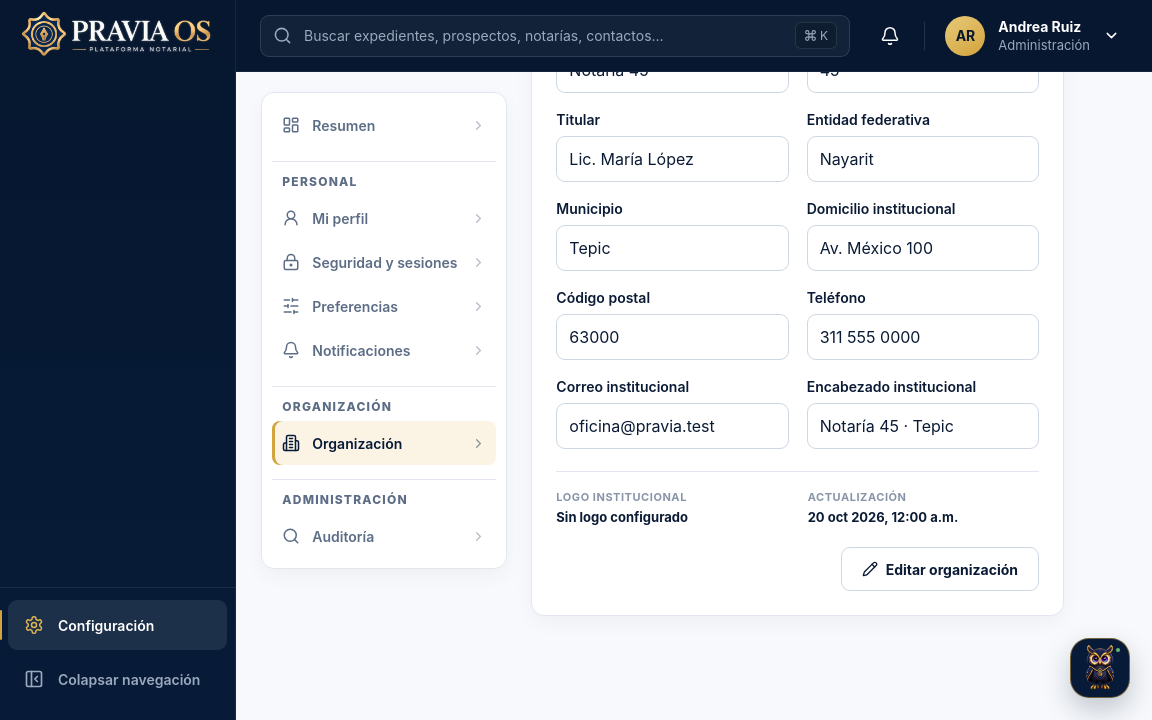
it: Una organización por tenant: retiro del módulo Notarías › mantiene el formulario visible y muestra el error si falla el guardado
The image size is (1152, 720).
(page scrolled)
Step 1. Click the button "Editar organización" → {"x": 940, "y": 569}, box [841,547,1039,591]
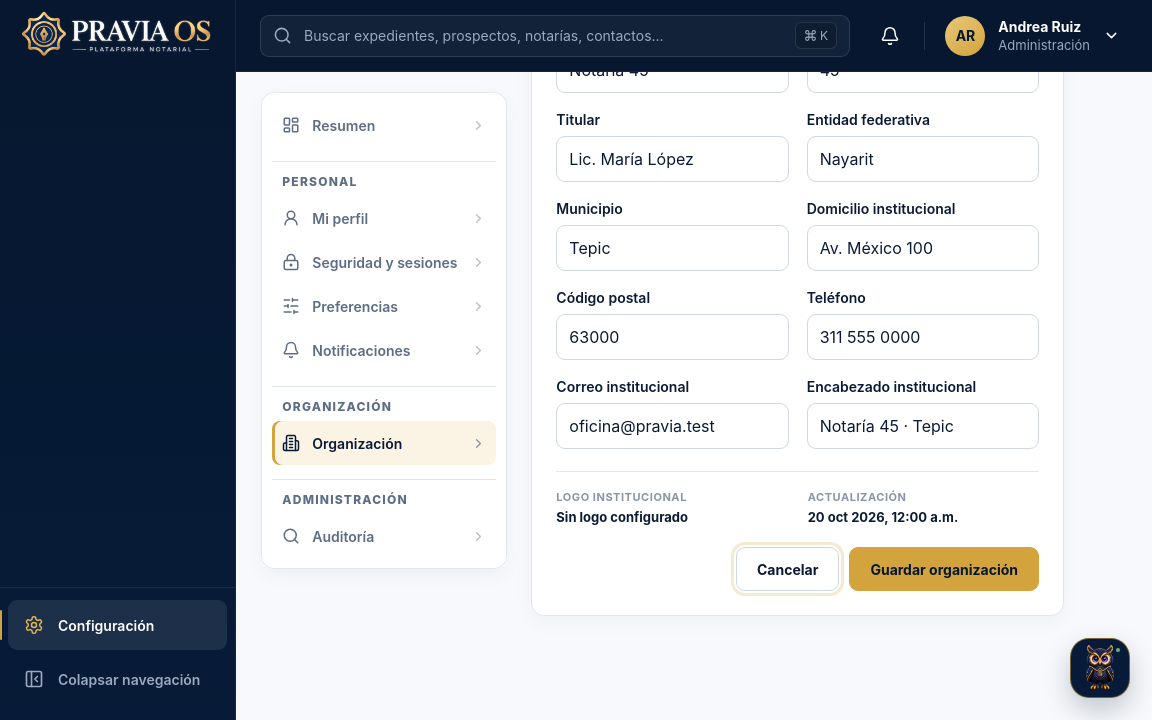
Step 2. Click the button "Guardar organización" → {"x": 944, "y": 569}, box [849,547,1039,591]
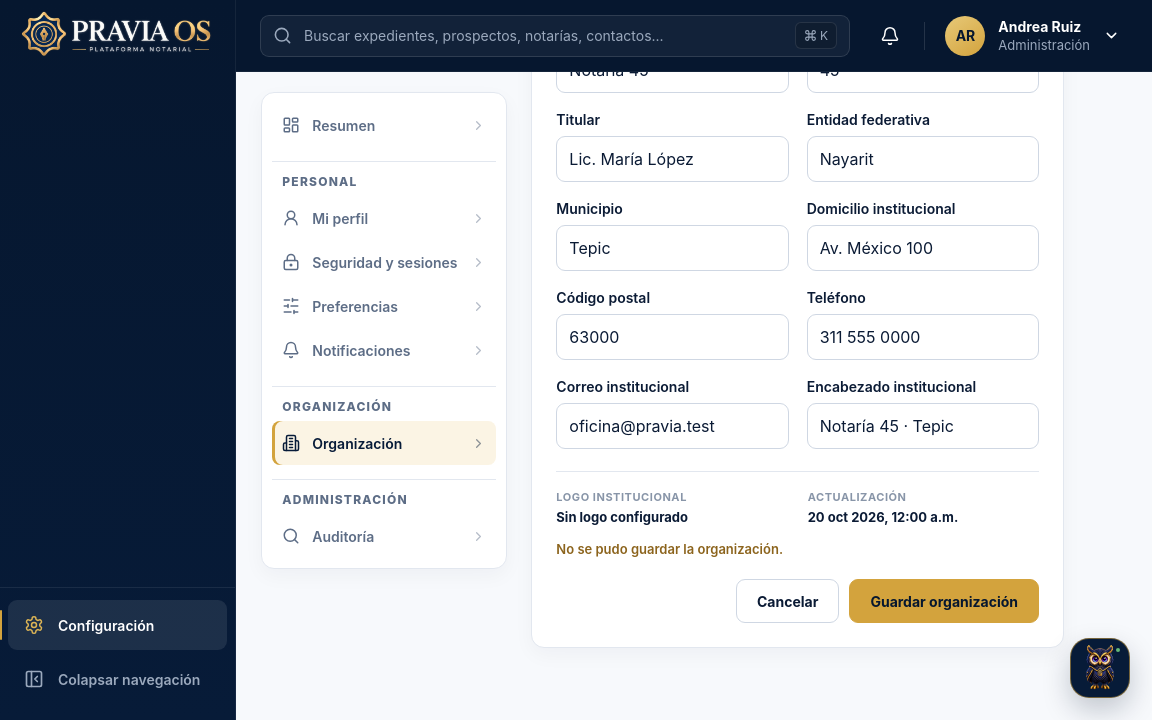
Now the button "Guardar organización" is shown, box [849,579,1039,623]
Now the text "No se pudo guardar la organización." is shown, box [556,541,783,557]
